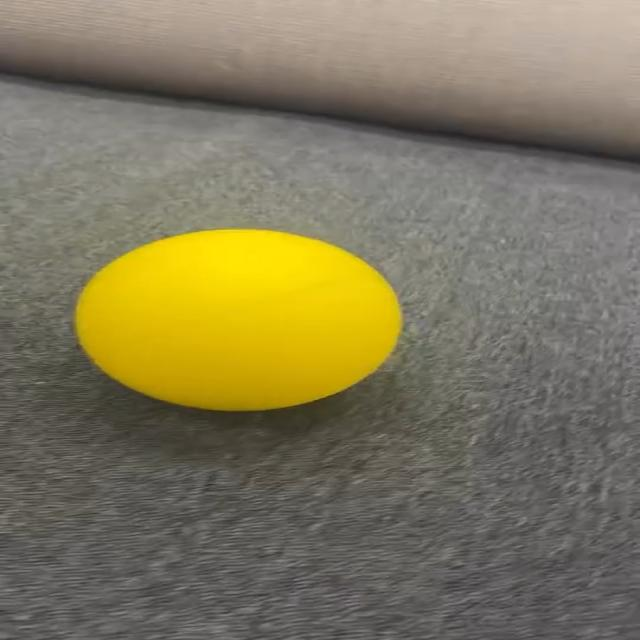Fuels: (78, 230, 400, 409)
